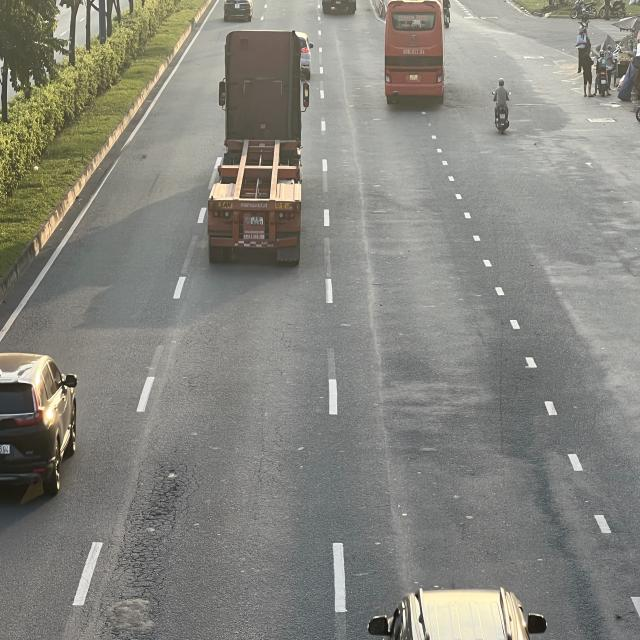car: (0, 351, 78, 505)
coach: (383, 0, 448, 104)
container: (201, 23, 307, 257)
